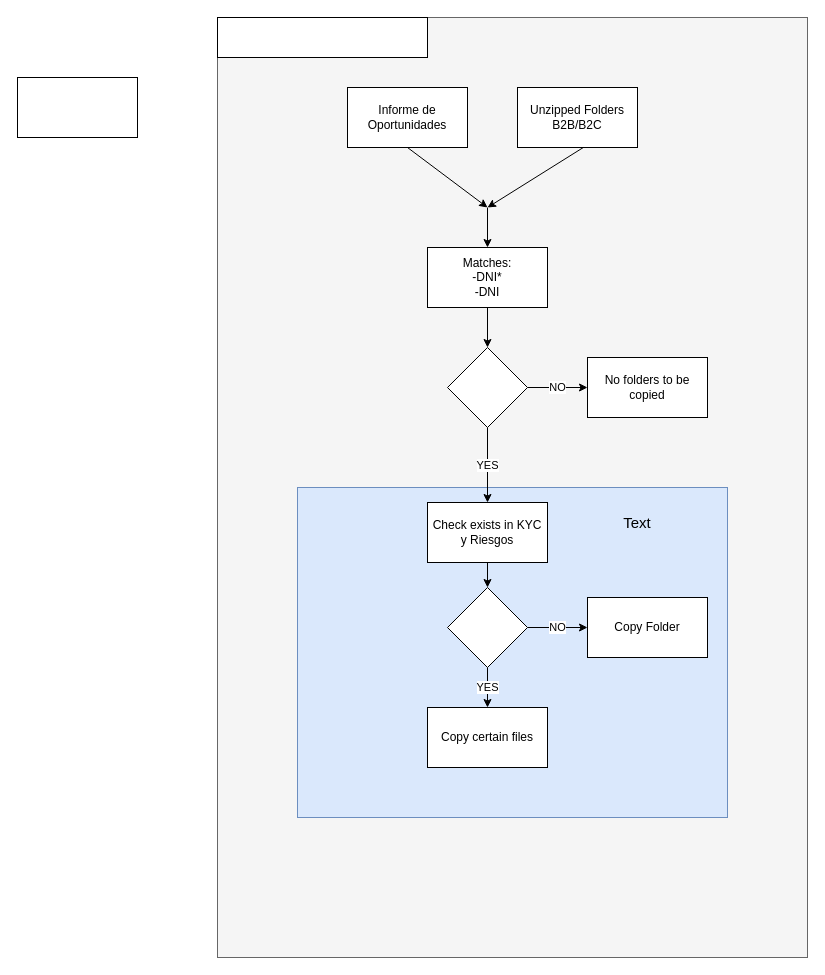
The diagram is 825 pixels wide and 975 high, and some of its shapes have lost their labels. The shapes that lost their labels are listed below. From the top down, each one's centre as x and y in pixels, then its label:
(322,37): Obtain matches by dni/cif
(77,107): Download "Informe de Oportunidades" from Mailbox
(487,387): ¿Hay matches?
(487,627): Ya existía?
